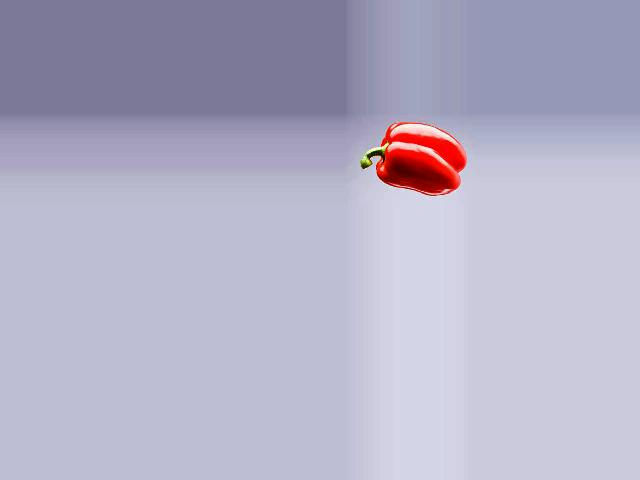bell_pepper: (359, 118, 463, 197)
